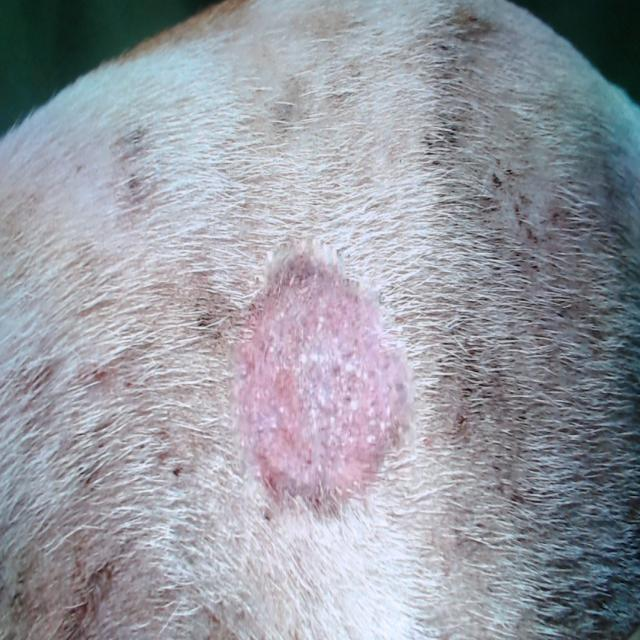ringworm: (224, 253, 415, 521)
